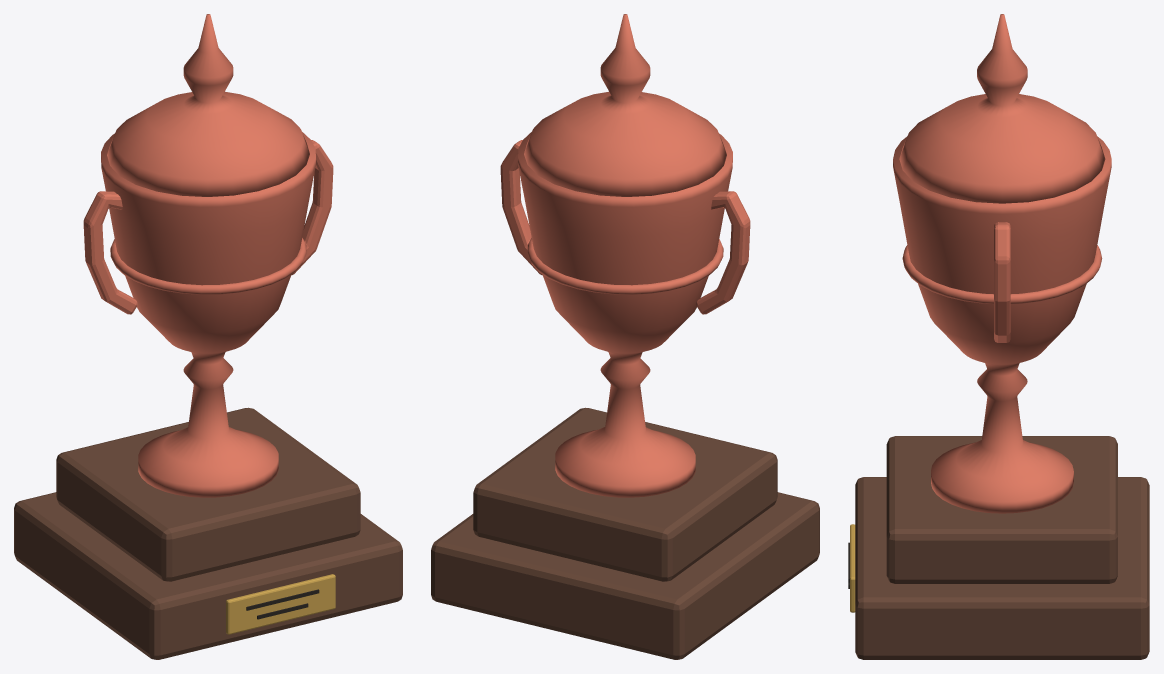
File: hh_cat_trophy.glb
The picture shows the model from 3 angles, left to right: view 1: azimuth 30°, elevation 25°; view 2: azimuth 150°, elevation 25°; view 3: azimuth 270°, elevation 25°; orthographic projection. The views are drawn at different scales.
Visible parts, largest first — view 1: cup, plinth.001, plinth, lid, plaque, handle, band, handle.001; view 2: cup, plinth, plinth.001, lid, handle, band, handle.001; view 3: cup, plinth, plinth.001, lid, band, handle.001, plaque.
Boxes of the visible parts, left/top/right/bottom form: cup: left=101, top=132, right=315, bottom=497; plinth.001: left=56, top=407, right=360, bottom=581; plinth: left=14, top=492, right=402, bottom=659; lid: left=107, top=14, right=309, bottom=196; plaque: left=226, top=574, right=335, bottom=634; handle: left=83, top=191, right=137, bottom=314; band: left=110, top=238, right=306, bottom=294; handle.001: left=291, top=140, right=333, bottom=275; cup: left=518, top=132, right=732, bottom=497; plinth: left=431, top=492, right=819, bottom=659; plinth.001: left=473, top=407, right=777, bottom=581; lid: left=524, top=14, right=726, bottom=196; handle: left=696, top=191, right=750, bottom=314; band: left=527, top=238, right=723, bottom=294; handle.001: left=500, top=140, right=542, bottom=275; cup: left=893, top=136, right=1111, bottom=513; plinth: left=855, top=477, right=1149, bottom=659; plinth.001: left=886, top=436, right=1117, bottom=583; lid: left=899, top=14, right=1105, bottom=203; band: left=902, top=245, right=1102, bottom=303; handle.001: left=994, top=222, right=1010, bottom=342; plaque: left=850, top=524, right=855, bottom=612.
Bounding box in the file's own units: 0.14 × 0.3 × 0.14.
